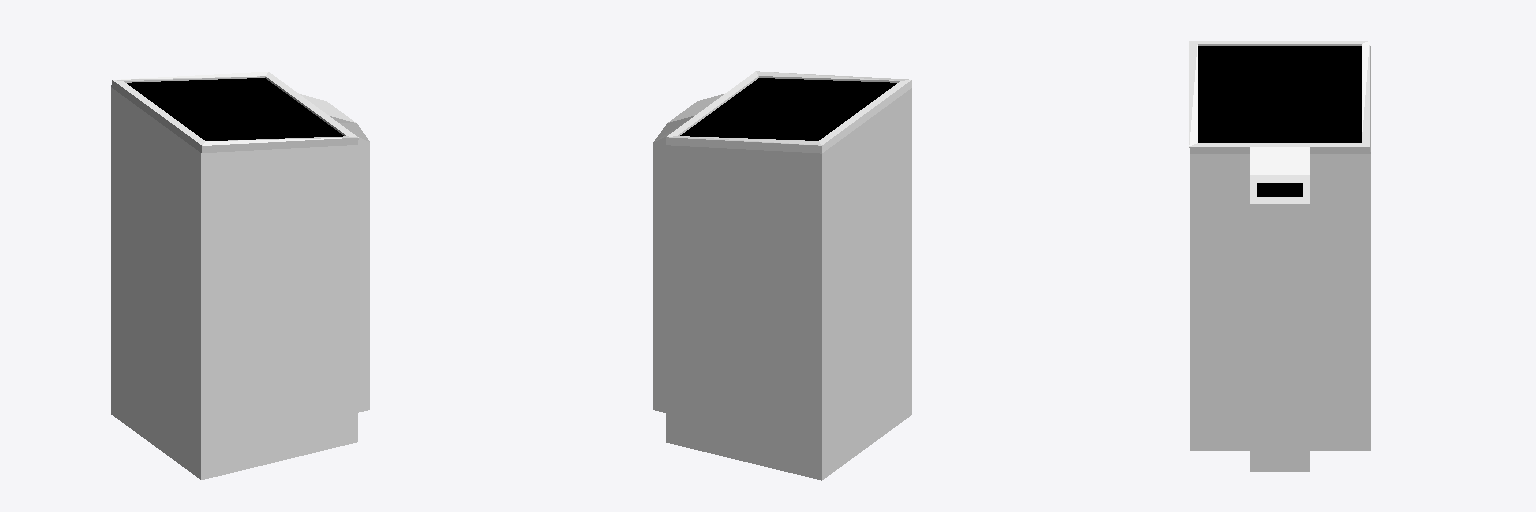
File: Console-Type-0.obj
The picture shows the model from 3 angles: view 1: azimuth 30°, elevation 25°; view 2: azimuth 150°, elevation 25°; view 3: azimuth 270°, elevation 25°; orthographic projection.
Parts seen in each view (by area): view 1: Console-Type-0; view 2: Console-Type-0; view 3: Console-Type-0.
Boxes of the visible parts, box(x1,y1,x2,y2) form: Console-Type-0: box(111, 72, 369, 479); Console-Type-0: box(653, 71, 911, 480); Console-Type-0: box(1189, 41, 1370, 471).
Bounding box in the file's own units: 0.7001 × 1.12 × 0.5525.